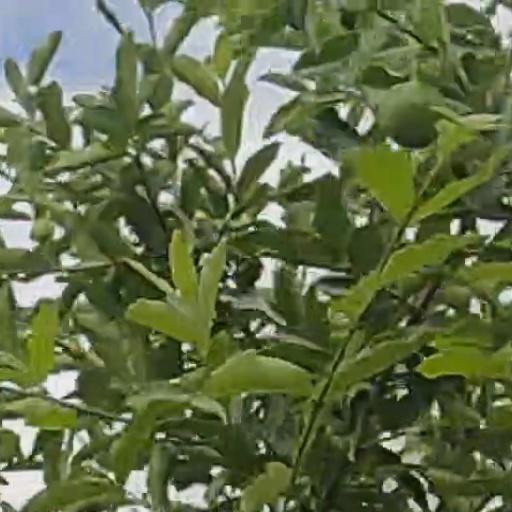acerola: (379, 83, 440, 146)
